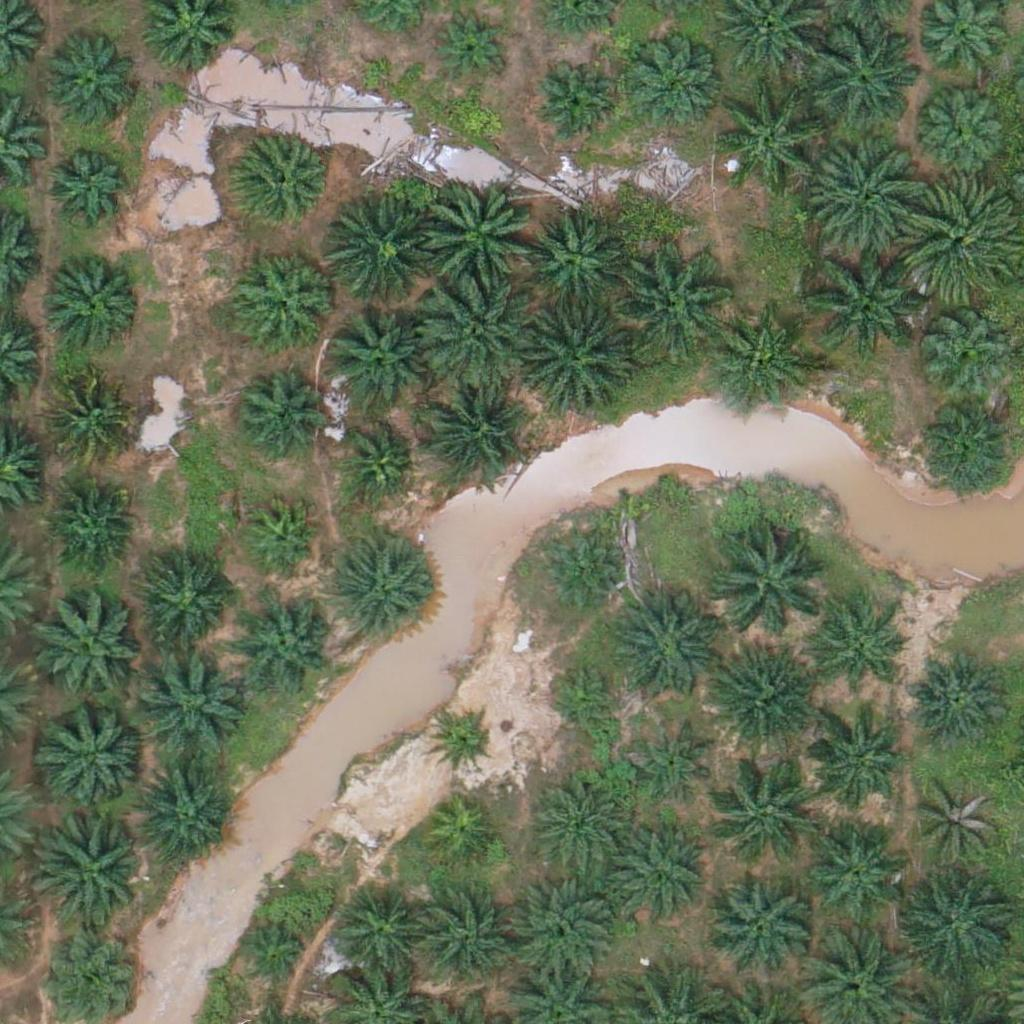Kelapa_Sawit: (516, 302, 629, 416), (713, 520, 826, 633), (607, 593, 720, 706), (505, 871, 618, 984), (133, 644, 246, 757), (34, 588, 147, 701), (38, 699, 151, 812), (904, 181, 1017, 294), (809, 15, 922, 128), (323, 198, 436, 311), (712, 751, 824, 865), (816, 142, 928, 256), (901, 868, 1013, 981), (805, 244, 917, 357), (703, 648, 815, 761), (616, 244, 728, 357), (424, 277, 536, 390), (37, 811, 149, 924), (717, 81, 829, 194), (423, 181, 535, 294), (805, 714, 905, 815), (707, 876, 807, 977), (324, 307, 424, 408), (607, 827, 707, 928), (415, 893, 515, 994), (330, 884, 430, 985), (132, 765, 232, 866), (44, 249, 144, 350), (523, 208, 623, 309), (915, 396, 1015, 496), (906, 649, 1006, 749), (805, 818, 905, 918), (712, 317, 812, 417), (422, 382, 522, 482), (332, 542, 432, 642), (530, 775, 630, 875), (235, 250, 335, 350), (238, 595, 338, 695), (915, 80, 1015, 180), (621, 33, 721, 133), (233, 135, 333, 235), (41, 35, 141, 135), (919, 303, 1007, 391), (630, 721, 718, 809), (535, 529, 623, 617), (232, 367, 320, 455), (143, 562, 231, 650), (43, 373, 131, 461), (533, 62, 621, 150), (42, 142, 130, 230), (915, 780, 1002, 868), (817, 610, 904, 698), (46, 481, 133, 569), (434, 5, 509, 81), (244, 498, 319, 574), (339, 424, 414, 499), (547, 660, 622, 735), (423, 798, 498, 873), (238, 922, 313, 997), (432, 711, 495, 774)
